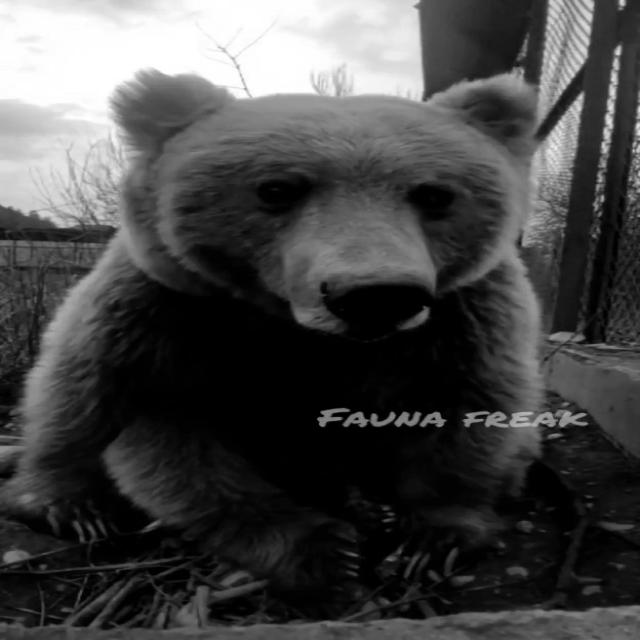Bear: (1, 66, 551, 606)
